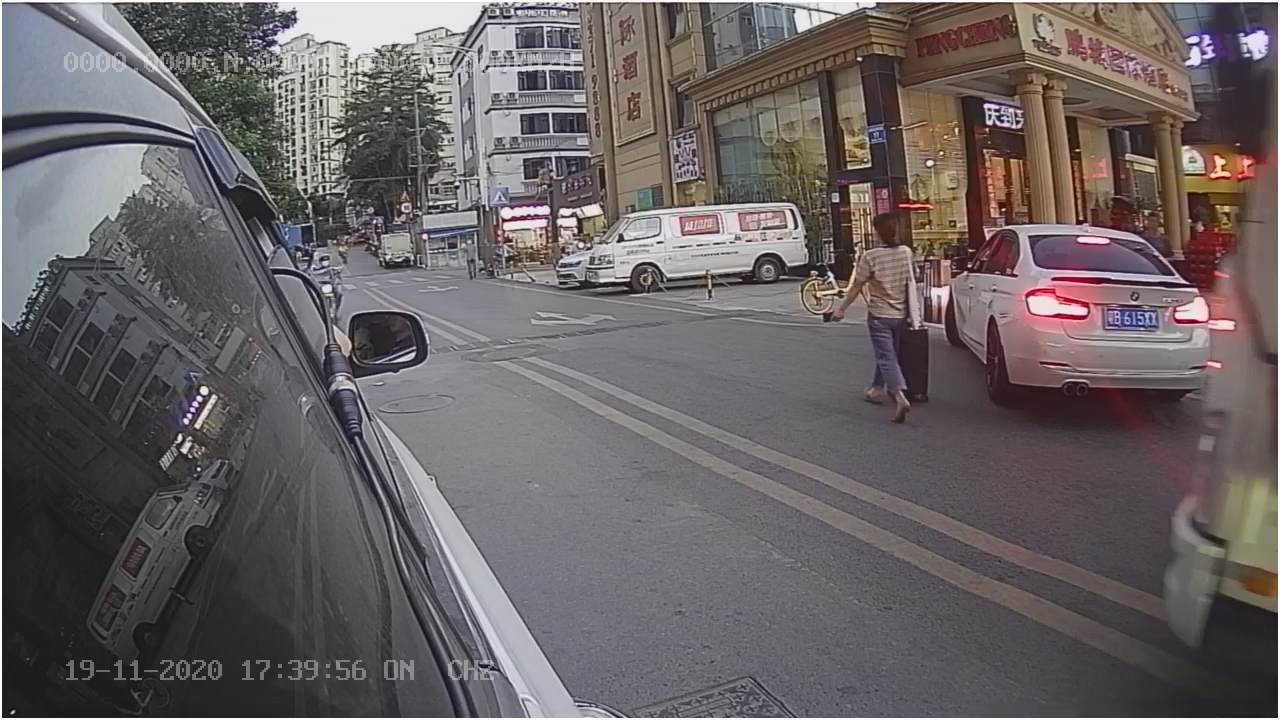person: (837, 216, 933, 421)
